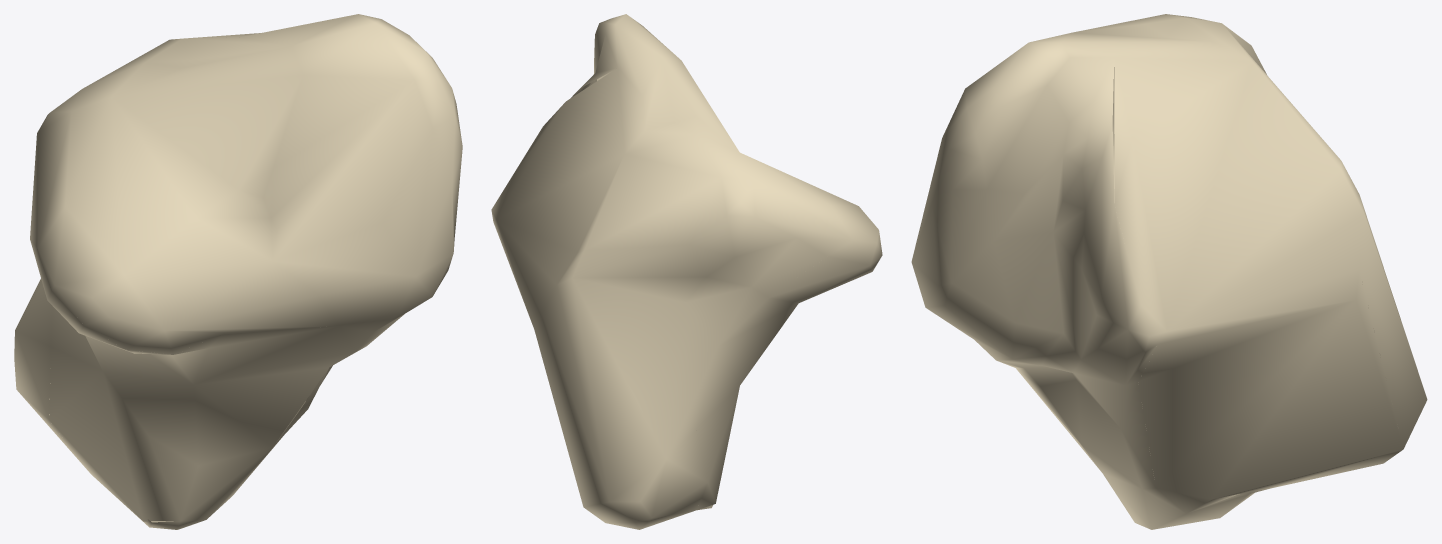
File: esqueleto-trapezium-bone-r.glb
3 renders of one model, left to right at view 1: azimuth 30°, elevation 25°; view 2: azimuth 150°, elevation 25°; view 3: azimuth 270°, elevation 25°, orthographic. The views are drawn at different scales.
Parts seen in each view (by area): view 1: Trapezium bone.r; view 2: Trapezium bone.r; view 3: Trapezium bone.r.
Boxes of the visible parts, left/top/right/bottom form: Trapezium bone.r: left=14, top=14, right=462, bottom=529; Trapezium bone.r: left=491, top=14, right=882, bottom=529; Trapezium bone.r: left=911, top=14, right=1427, bottom=529.
Bounding box in the file's own units: 0.0177 × 0.0208 × 0.0175.
